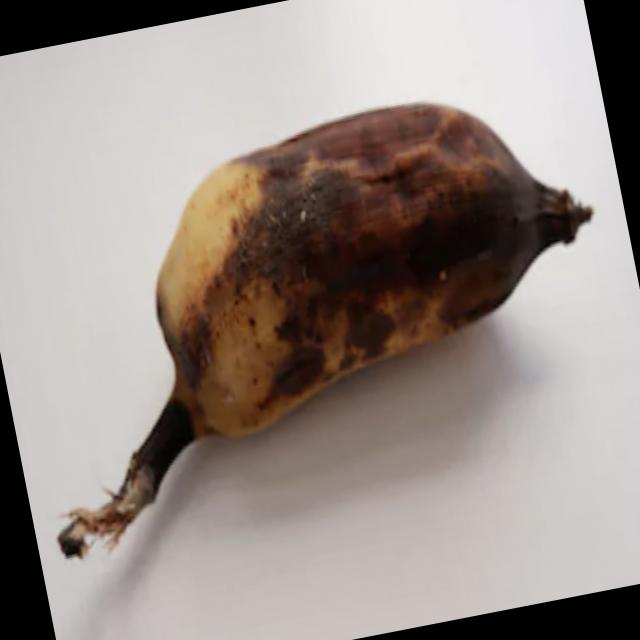rotten-banana: (80, 73, 590, 469)
